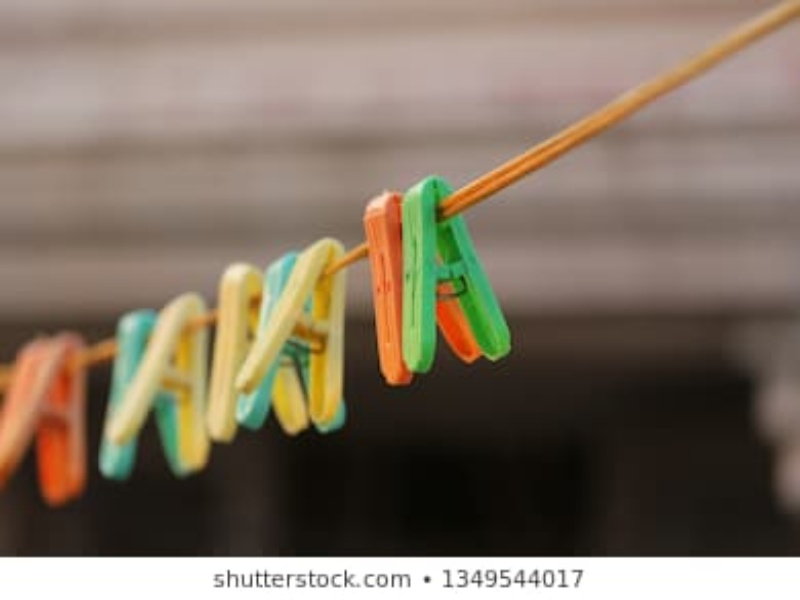plastic-peg: (395, 171, 518, 369), (362, 187, 478, 394), (243, 234, 351, 425), (97, 300, 193, 479), (118, 289, 213, 462), (1, 323, 88, 509), (247, 246, 309, 451)
